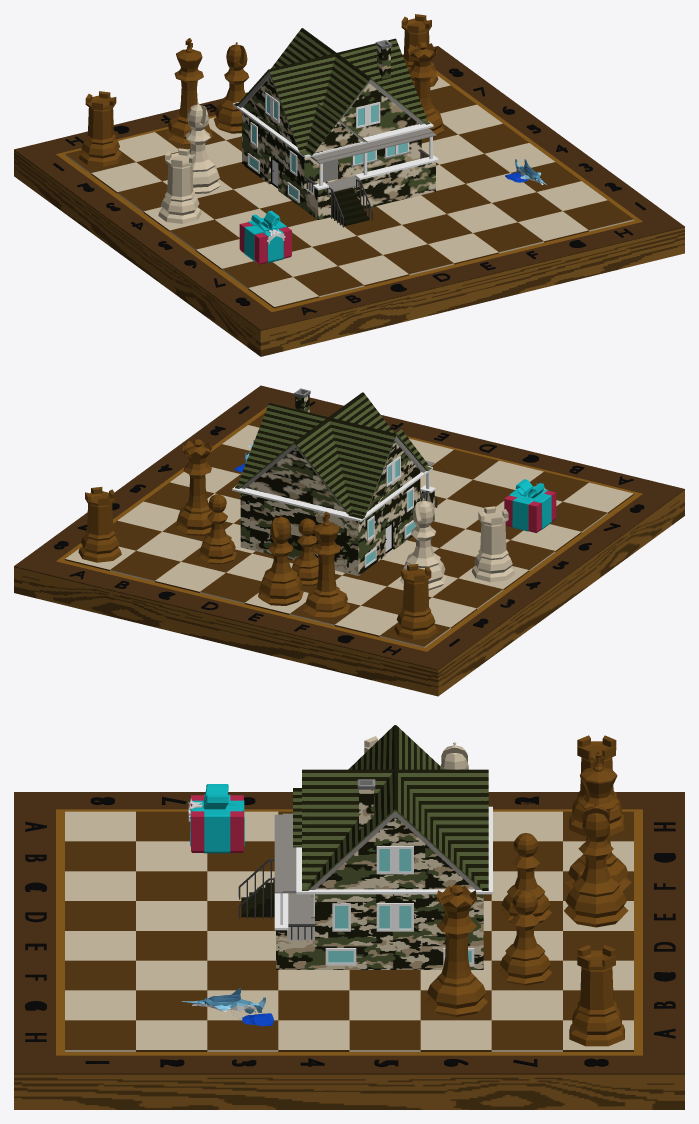
3 renders of one model, top to bottom at view 1: azimuth 30°, elevation 25°; view 2: azimuth 150°, elevation 25°; view 3: azimuth 270°, elevation 25°, orthographic. The views are drawn at different scales.
Visible parts, largest first — view 1: Cube.002, Cube.001, OBJRANDOM_GIANT_PRESENT; view 2: Cube.002, Cube.001, OBJRANDOM_GIANT_PRESENT; view 3: Cube.002, Cube.001, OBJRANDOM_GIANT_PRESENT, ANIMAL_PEZ_ESPADA.
Boxes of the visible parts, bbox=[...] form: Cube.002: bbox=[14, 14, 684, 356]; Cube.001: bbox=[232, 28, 438, 227]; OBJRANDOM_GIANT_PRESENT: bbox=[239, 210, 291, 264]; Cube.002: bbox=[14, 385, 684, 696]; Cube.001: bbox=[232, 388, 437, 575]; OBJRANDOM_GIANT_PRESENT: bbox=[504, 479, 556, 532]; Cube.002: bbox=[14, 735, 684, 1109]; Cube.001: bbox=[238, 725, 492, 969]; OBJRANDOM_GIANT_PRESENT: bbox=[188, 784, 244, 853]; ANIMAL_PEZ_ESPADA: bbox=[181, 988, 273, 1026].
Size of the model in its own units: 3981 by 1491 by 4012.
Materials: 27 (4 with a texture image).
